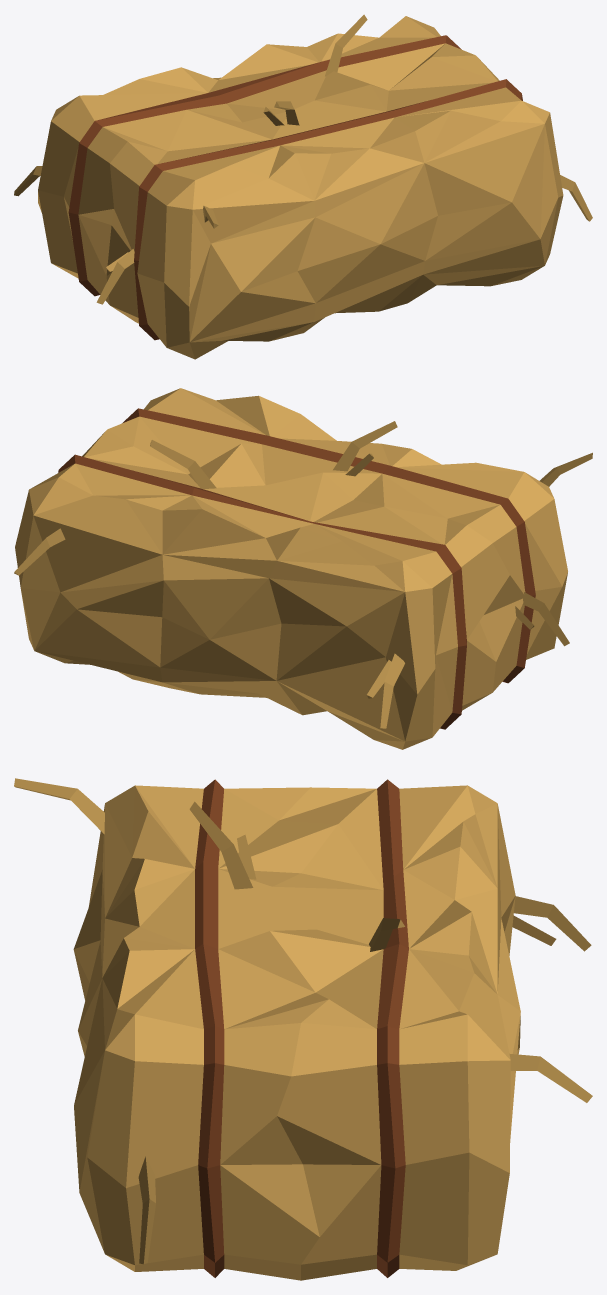
File: Hay.fbx
3 views of the same model, one above another, from view 1: azimuth 30°, elevation 25°; view 2: azimuth 150°, elevation 25°; view 3: azimuth 270°, elevation 25° (orthographic). The views are drawn at different scales.
Parts seen in each view (by area): view 1: Hay; view 2: Hay; view 3: Hay.
Boxes of the visible parts, left/top/right/bottom form: Hay: left=14, top=14, right=592, bottom=359; Hay: left=14, top=388, right=592, bottom=749; Hay: left=14, top=778, right=592, bottom=1280.
Size of the model in its own units: 58.55 by 29.05 by 43.28.
